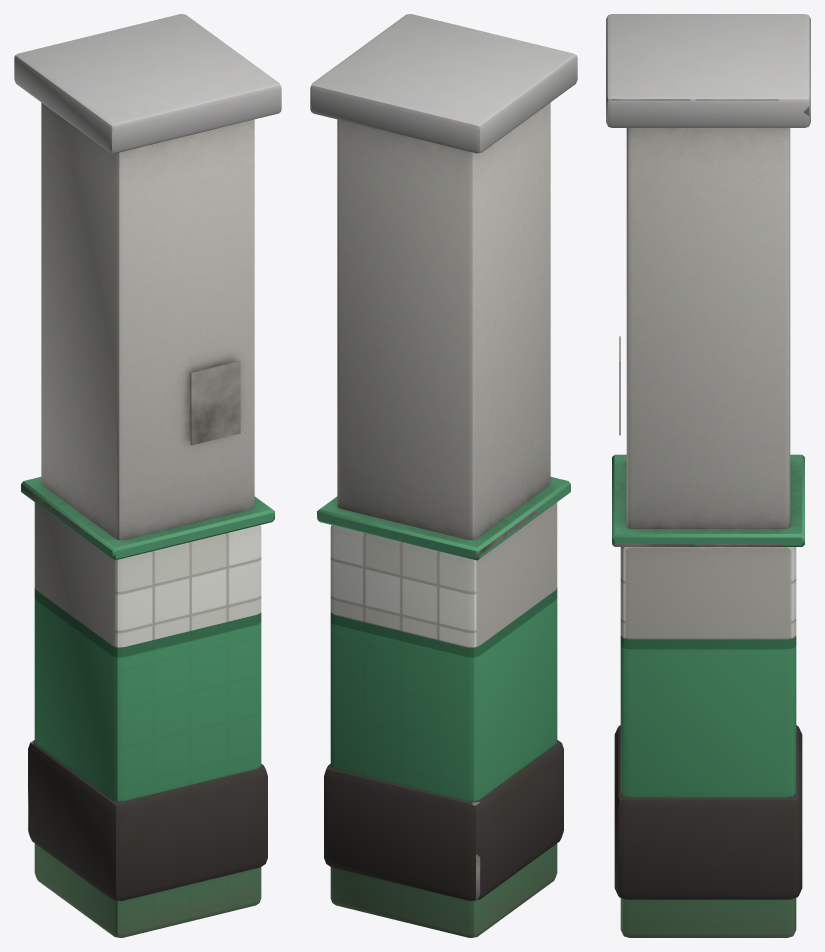
Rendered from g67_pz_column.glb.
3 renders of one model, left to right at view 1: azimuth 30°, elevation 25°; view 2: azimuth 150°, elevation 25°; view 3: azimuth 270°, elevation 25°, orthographic. The views are drawn at different scales.
Parts seen in each view (by area): view 1: g67_pz_column, sticker; view 2: g67_pz_column; view 3: g67_pz_column.
Boxes of the visible parts, x1,y1,x2,y2 form: g67_pz_column: (14, 14, 281, 937); sticker: (190, 361, 240, 445); g67_pz_column: (310, 14, 577, 937); g67_pz_column: (606, 14, 810, 937).
Bounding box in the file's own units: 0.7 × 3.2 × 0.7.
Materials: 1 (1 with a texture image).
